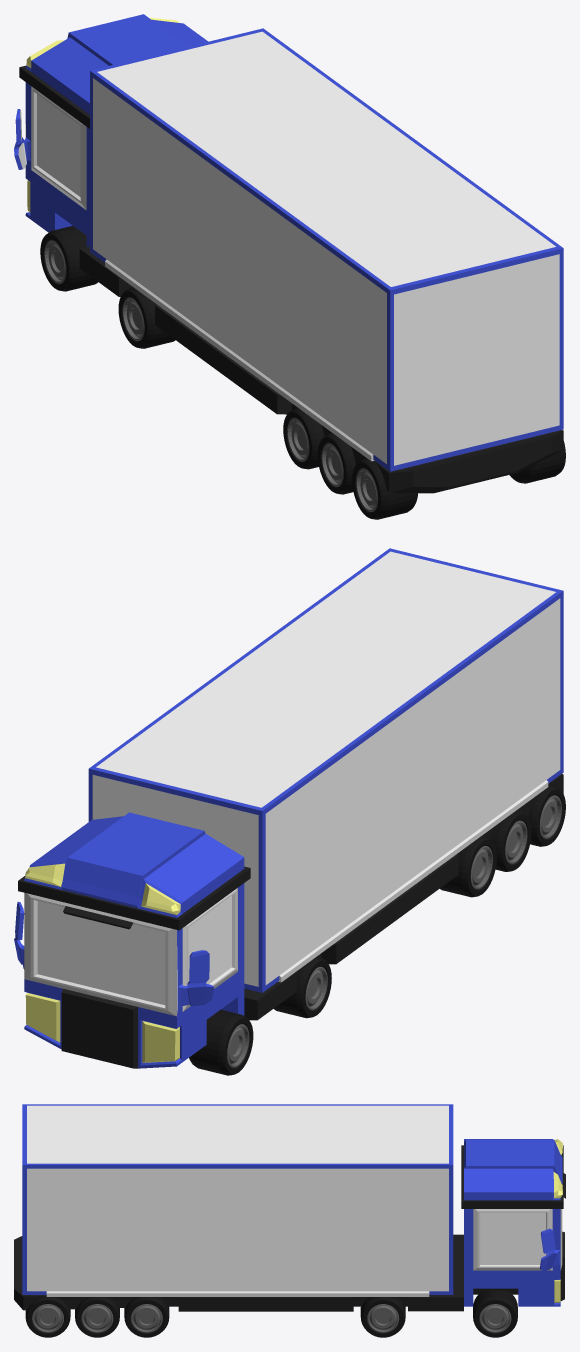
The model's file is obj_Truck.fbx.
3 views of the same model, one above another, from view 1: azimuth 30°, elevation 25°; view 2: azimuth 150°, elevation 25°; view 3: azimuth 270°, elevation 25° (orthographic). The views are drawn at different scales.
Visible parts, largest first — view 1: Cube; view 2: Cube; view 3: Cube.
Part boxes in pixels (x1,y1,x2,y2): Cube: [14, 14, 565, 519]; Cube: [14, 548, 565, 1075]; Cube: [14, 1104, 565, 1337].
Size of the model in its own units: 684 by 794 by 2306.
